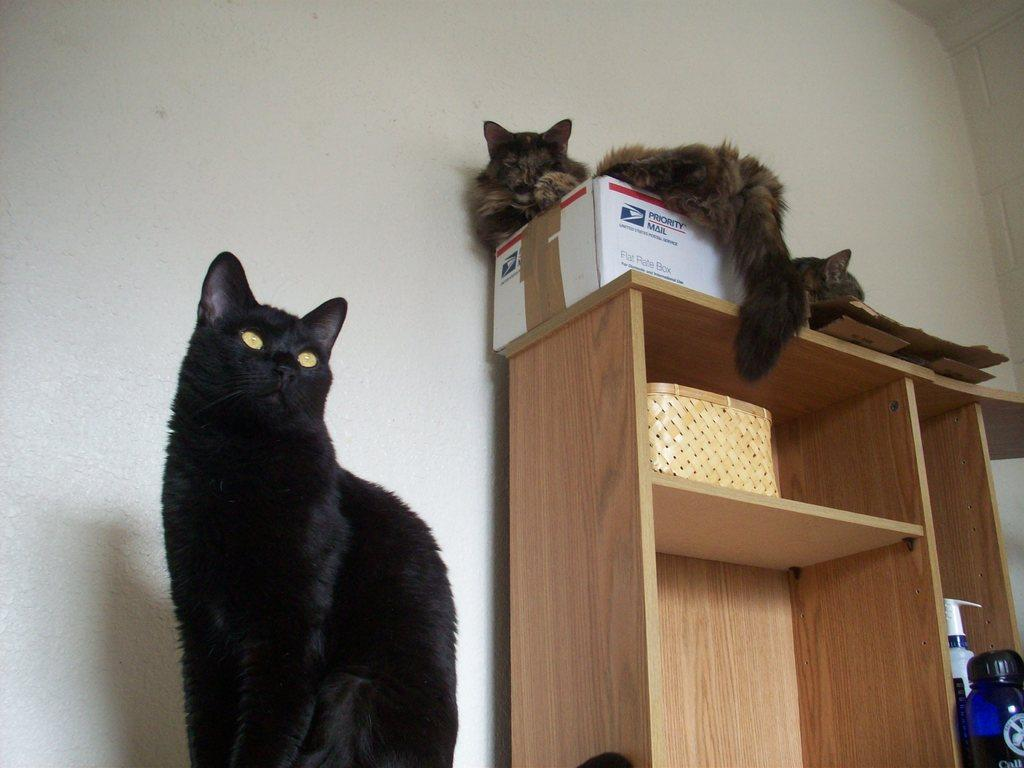Computer-keyboard: (157, 247, 461, 765)
